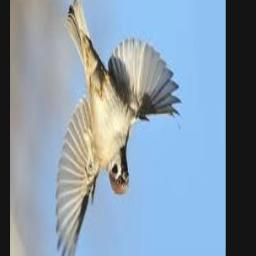Sparrow: (56, 0, 182, 256)
